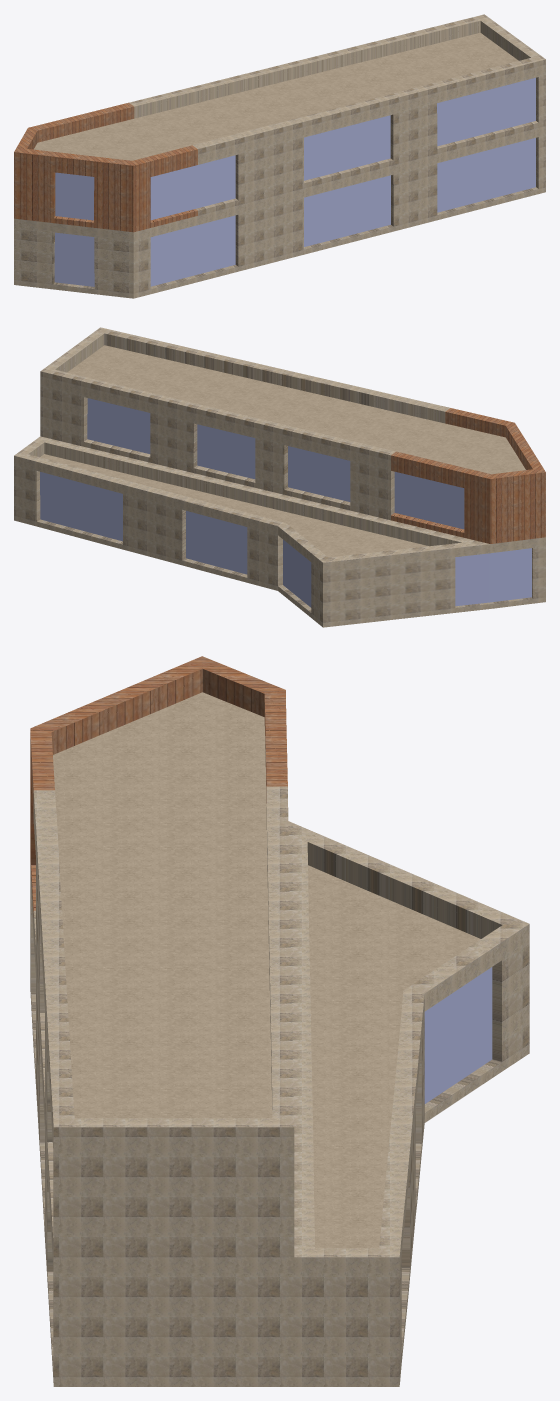
3 views of the same model, one above another, from view 1: azimuth 30°, elevation 25°; view 2: azimuth 150°, elevation 25°; view 3: azimuth 270°, elevation 25° (orthographic). The views are drawn at different scales.
Parts seen in each view (by area): view 1: Cube.014; view 2: Cube.014; view 3: Cube.014.
Part boxes in pixels (box(x1,y1,x2,y2)): Cube.014: box(14, 14, 545, 298); Cube.014: box(14, 327, 545, 627); Cube.014: box(30, 656, 529, 1386).
Size of the model in its own units: 37.01 by 9.51 by 16.58.
Materials: 4 (3 with a texture image).
